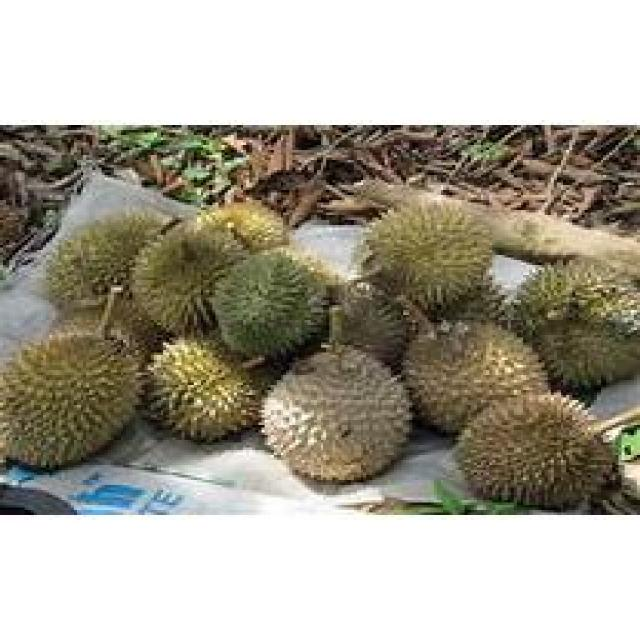fruit: (430, 308, 628, 512), (117, 215, 341, 380), (249, 330, 431, 502), (0, 302, 154, 482), (360, 173, 508, 335), (135, 318, 271, 460)
